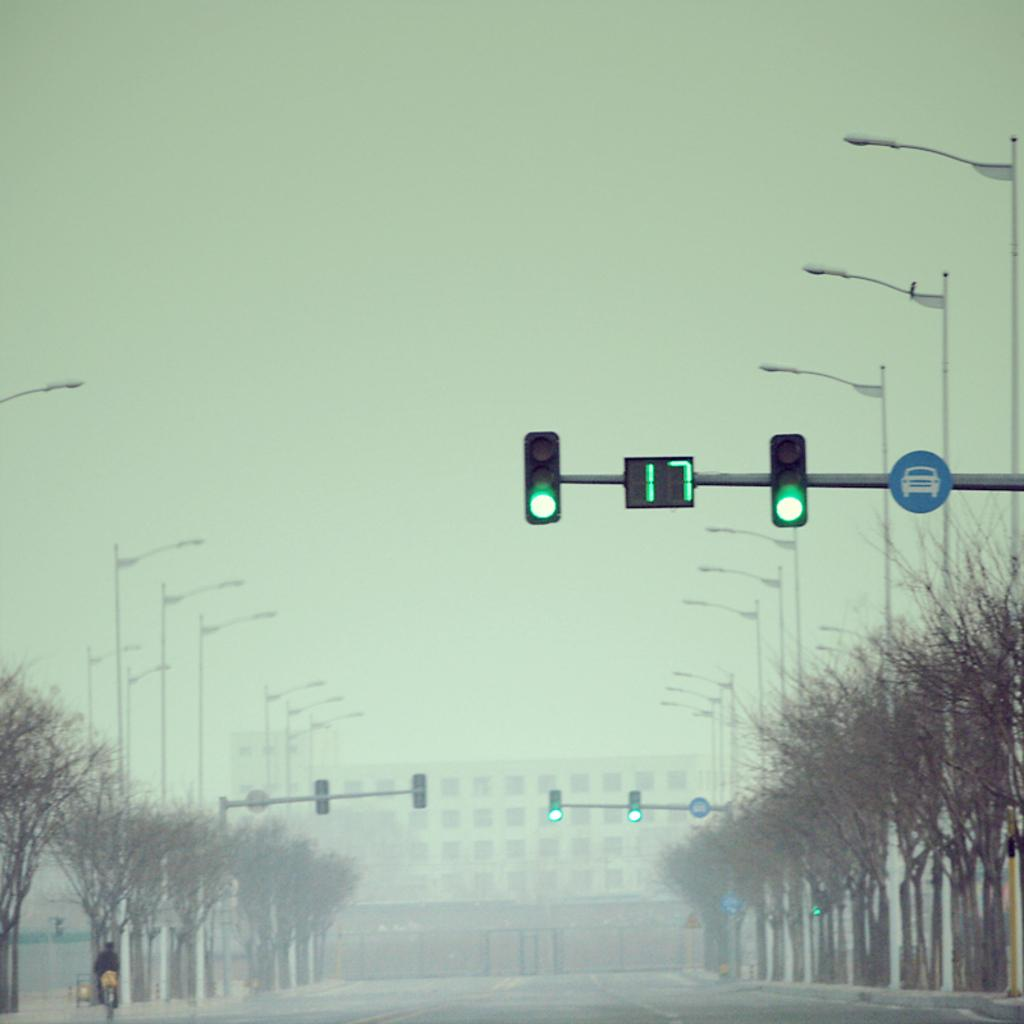green_light: (770, 434, 809, 527), (524, 431, 560, 526), (547, 791, 563, 822), (627, 791, 641, 821)
